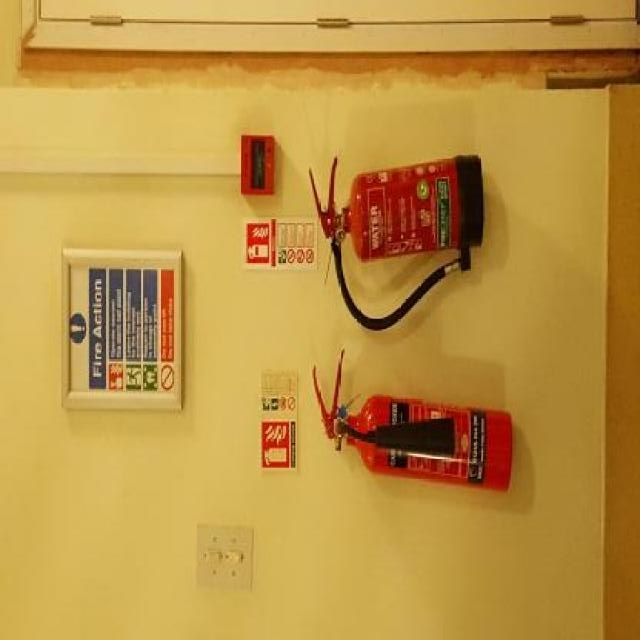fire extinguisher: (309, 154, 486, 332), (313, 347, 513, 493)
